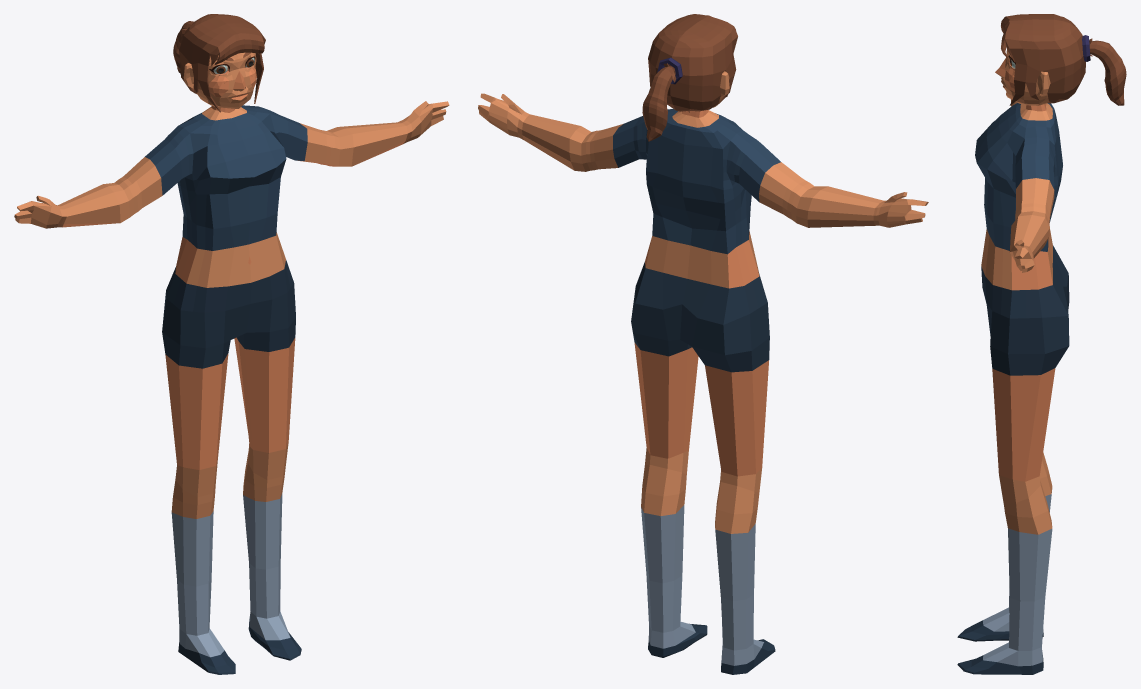
Rendered from Claire_3D_Model_norig_noskirt.fbx.
The picture shows the model from 3 angles, left to right: view 1: azimuth 30°, elevation 25°; view 2: azimuth 150°, elevation 25°; view 3: azimuth 270°, elevation 25°; orthographic projection. The views are drawn at different scales.
Parts seen in each view (by area): view 1: body_mesh; view 2: body_mesh; view 3: body_mesh.
Part boxes in pixels (box(x1,y1,x2,y2)): body_mesh: box(14, 14, 449, 674); body_mesh: box(478, 14, 928, 674); body_mesh: box(957, 14, 1126, 674).
Size of the model in its own units: 383 by 523 by 127.
